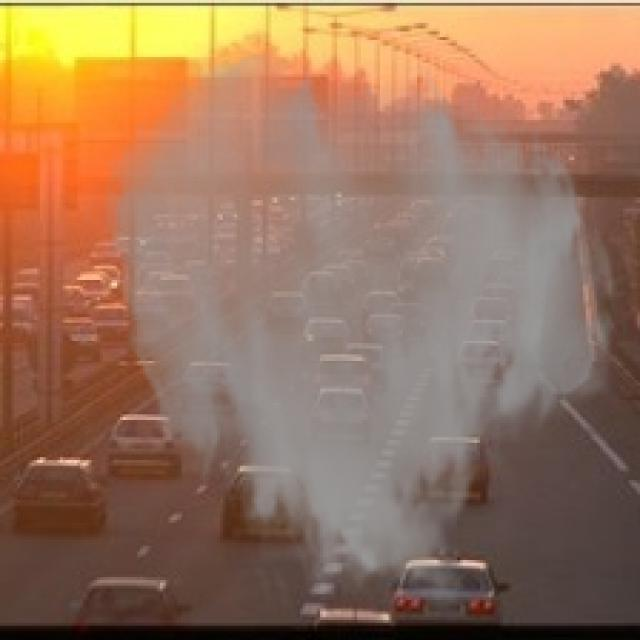Smoke: (100, 48, 620, 614)
